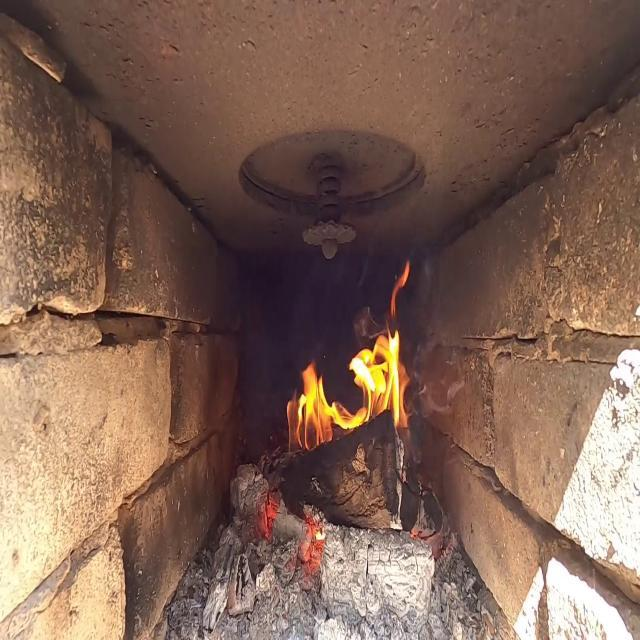Fire: (284, 312, 414, 456)
